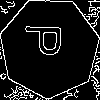P: (24, 23, 71, 58)
